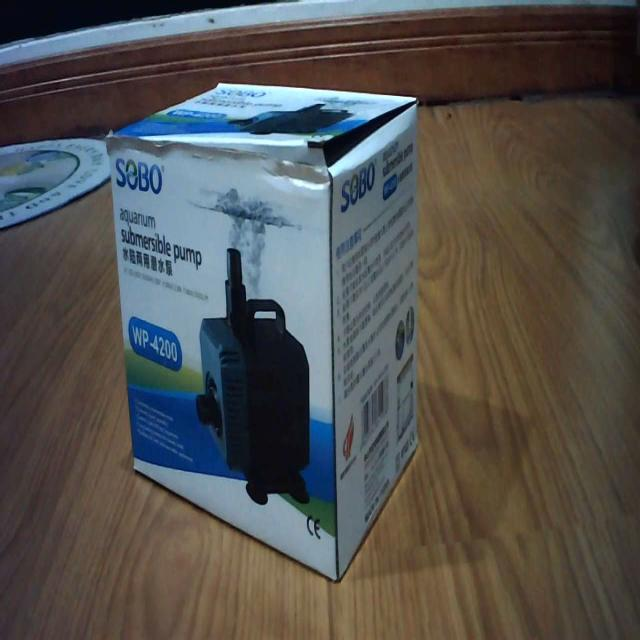SOBO_WP_4200: (106, 79, 420, 582)
